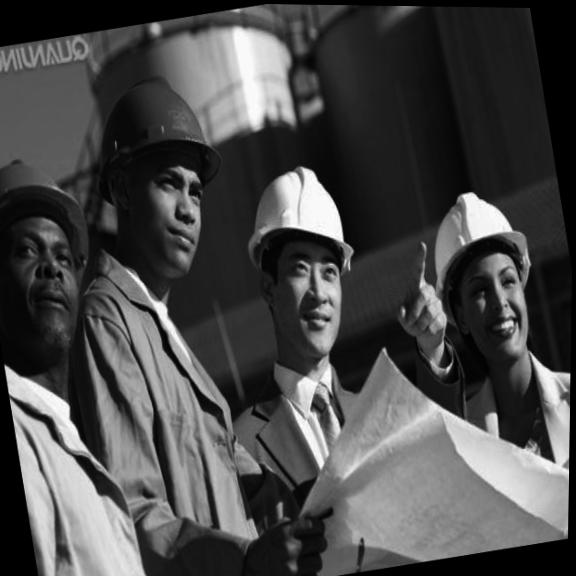no_safety_vest: (65, 260, 277, 576), (213, 348, 405, 576), (0, 341, 160, 576), (458, 345, 571, 552)
